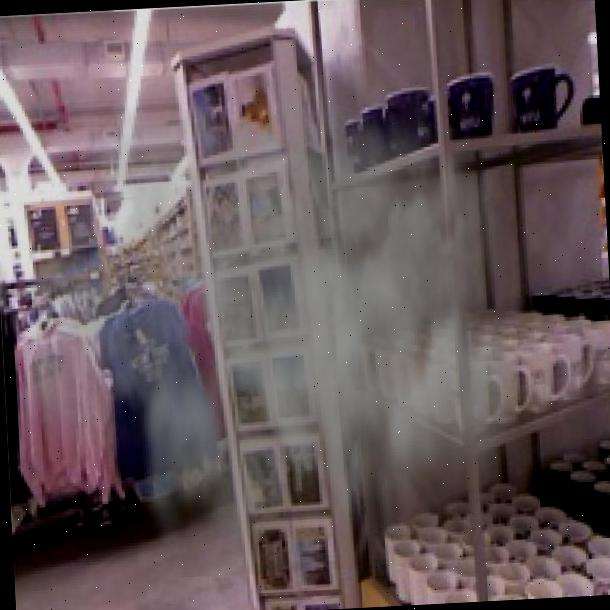smoke: (7, 18, 560, 585)
